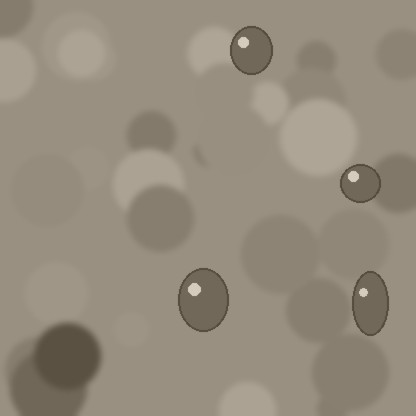gota: (178, 270, 228, 336), (352, 273, 388, 341), (230, 28, 272, 78), (340, 165, 380, 205)
